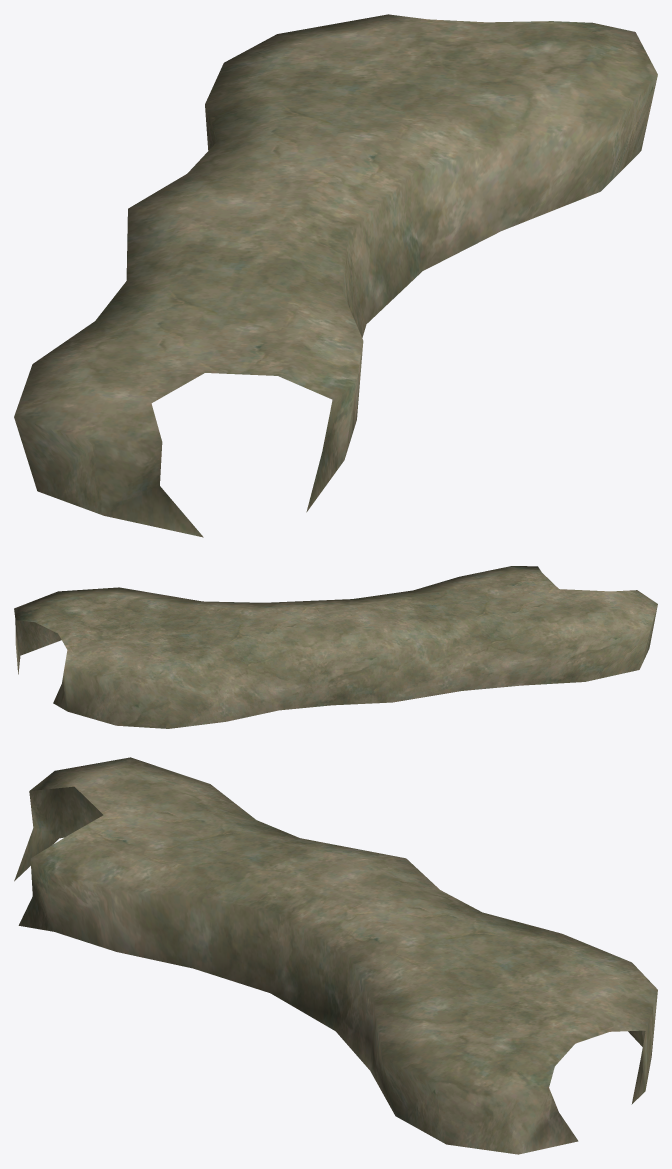
Rendered from EKH_CAVERNS_PS_CA_ROCK_001.fbx.
3 views of the same model, one above another, from view 1: azimuth 30°, elevation 25°; view 2: azimuth 150°, elevation 25°; view 3: azimuth 270°, elevation 25° (orthographic). The views are drawn at different scales.
Visible parts, largest first — view 1: EKH_CAVERNS_PS_CA_ROCK_001; view 2: EKH_CAVERNS_PS_CA_ROCK_001; view 3: EKH_CAVERNS_PS_CA_ROCK_001.
Boxes of the visible parts, x1,y1,x2,y2 form: EKH_CAVERNS_PS_CA_ROCK_001: (14, 14, 657, 537); EKH_CAVERNS_PS_CA_ROCK_001: (14, 566, 657, 728); EKH_CAVERNS_PS_CA_ROCK_001: (14, 757, 657, 1154).
Size of the model in its own units: 101511 by 14372 by 81450.
1 material, 1 textured.
